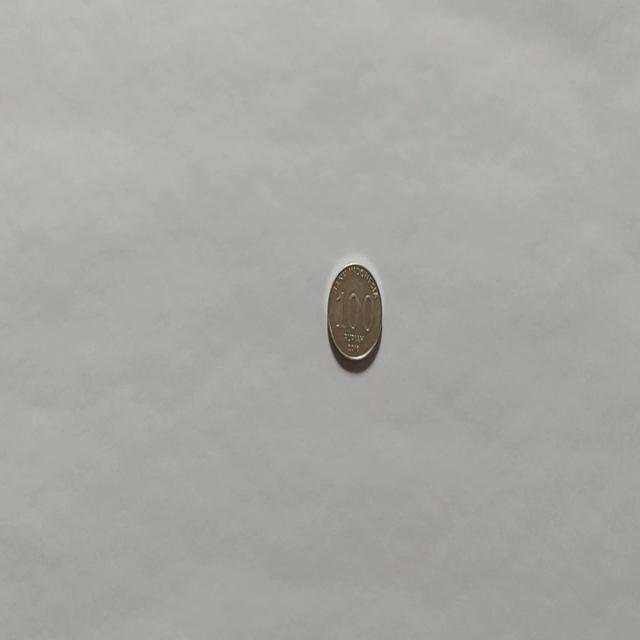seratus rupiah: (326, 261, 383, 371)
